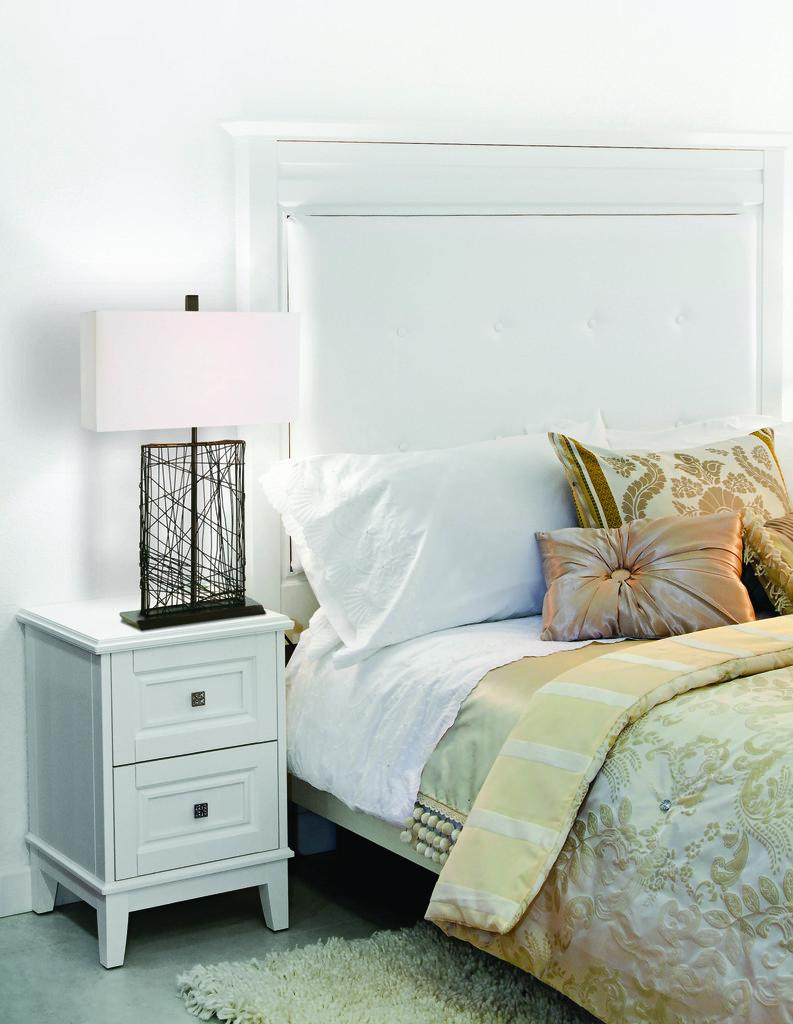cabinet_door: (112, 751, 274, 858), (106, 656, 276, 741)
handle: (195, 784, 210, 839), (189, 678, 209, 716)
